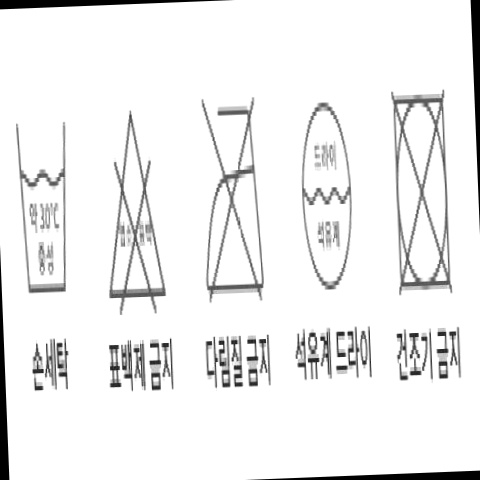30C: (10, 115, 83, 302)
DN_iron: (192, 92, 282, 312)
DN_tumble_dry: (380, 87, 461, 301)
dry_clean_petrol_only: (288, 103, 368, 295)
non_chlorine_bleach: (95, 107, 176, 319)
